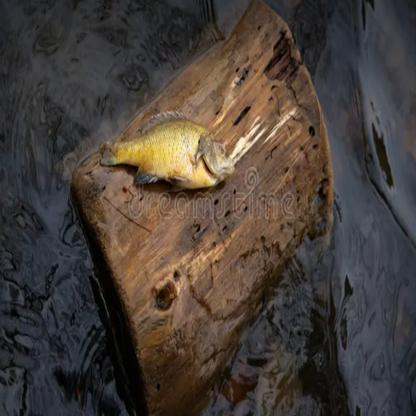deceased fish: (95, 108, 235, 190)
